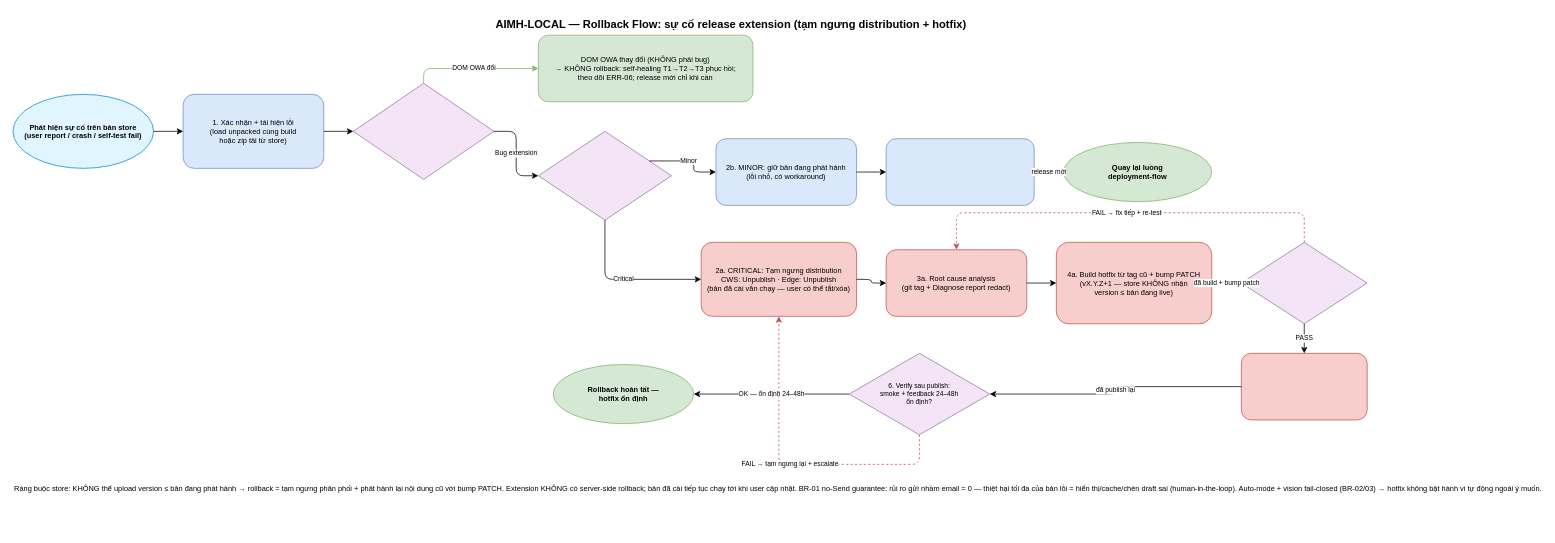
This 1555x543 diagram has some shape labels left out. Here are the shapes that lost their labels. From the top down, the centre of each, then its label:
the point at 423,131: Nguyên nhân? Bug extension hay DOM OWA thay đổi?
the point at 605,175: Đánh giá severity (tác động người dùng)?
the point at 959,171: 3b. Fix trên nhánh dev + bump patch → release theo deployment-flow
the point at 1304,283: Gate: re-test CI xanh + manual OWA 2 domain PASS?
the point at 1304,386: 5a. Upload + review + publish lại bản hotfix
